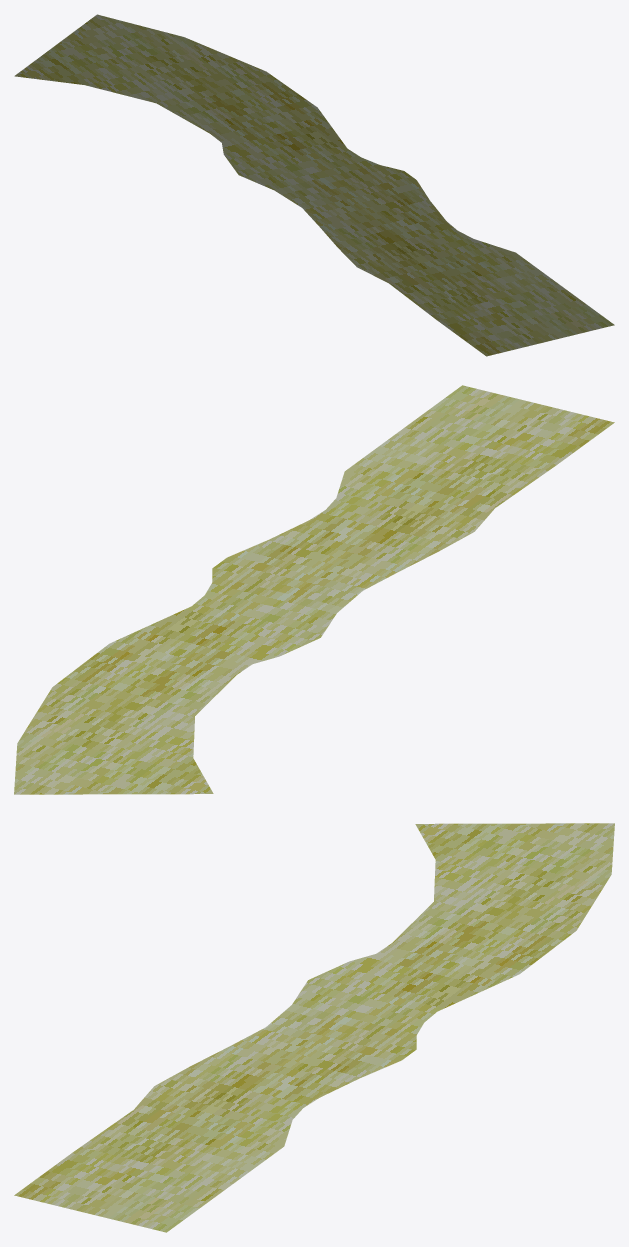
3 renders of one model, top to bottom at view 1: azimuth 30°, elevation 25°; view 2: azimuth 150°, elevation 25°; view 3: azimuth 330°, elevation 25°, orthographic. The views are drawn at different scales.
Visible parts, largest first — view 1: Joint_0_Object_0; view 2: Joint_0_Object_0; view 3: Joint_0_Object_0.
Part boxes in pixels (x1,y1,x2,y2): Joint_0_Object_0: (14,14,614,356); Joint_0_Object_0: (14,385,614,794); Joint_0_Object_0: (14,823,614,1232).
Bounding box in the file's own units: 1133 × 0.00113 × 4488.
Materials: 1 (1 with a texture image).
